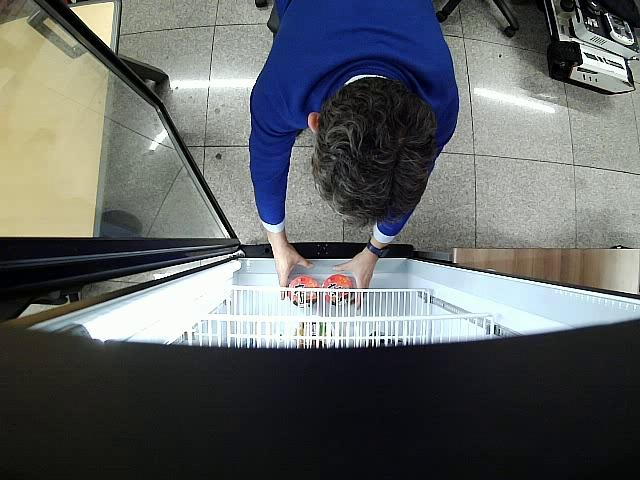00_hand: (272, 230, 314, 300), (333, 251, 375, 310)
02_shinRamen_S: (288, 276, 321, 308), (322, 274, 353, 305)
